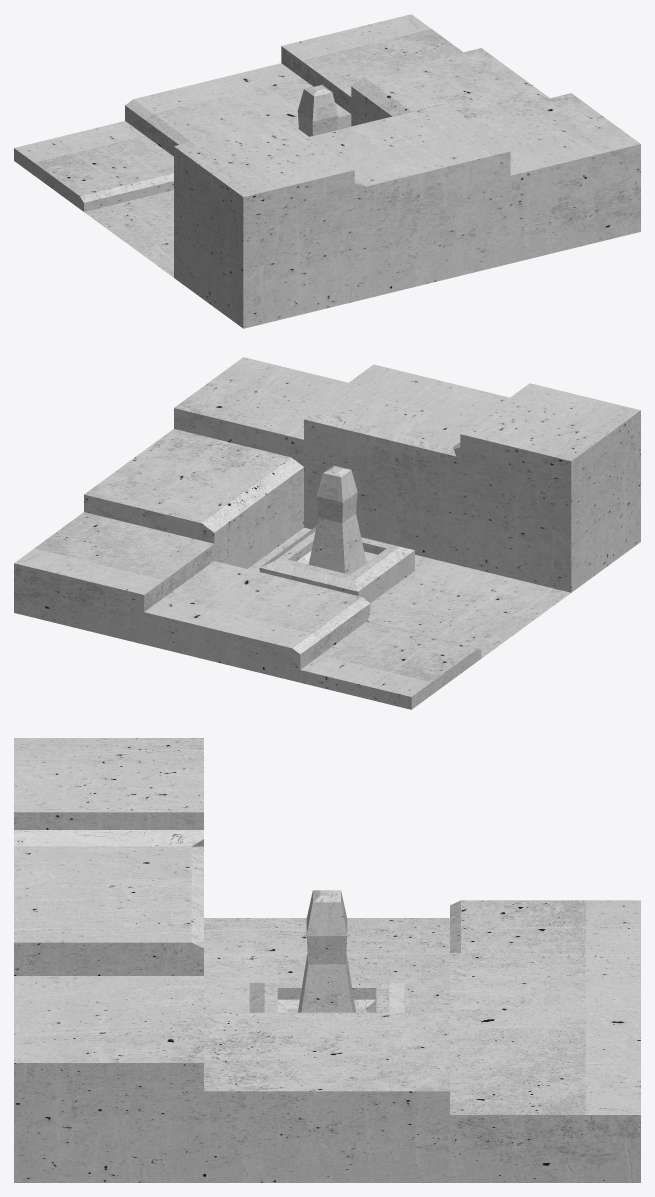
The model's file is fountain.glb.
3 views of the same model, one above another, from view 1: azimuth 30°, elevation 25°; view 2: azimuth 150°, elevation 25°; view 3: azimuth 270°, elevation 25° (orthographic). The views are drawn at different scales.
Parts seen in each view (by area): view 1: Plane; view 2: Plane; view 3: Plane.
Boxes of the visible parts, x1=… form: Plane: x1=14, y1=14, x2=640, y2=328; Plane: x1=14, y1=357, x2=640, y2=709; Plane: x1=14, y1=738, x2=640, y2=1182.
Bounding box in the file's own units: 4 × 1.27 × 4.
Materials: 1 (1 with a texture image).
